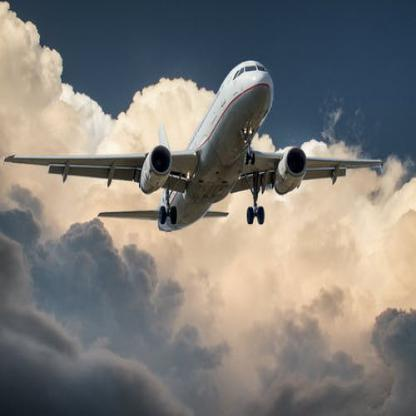CIV_Plane: (1, 57, 386, 236)
